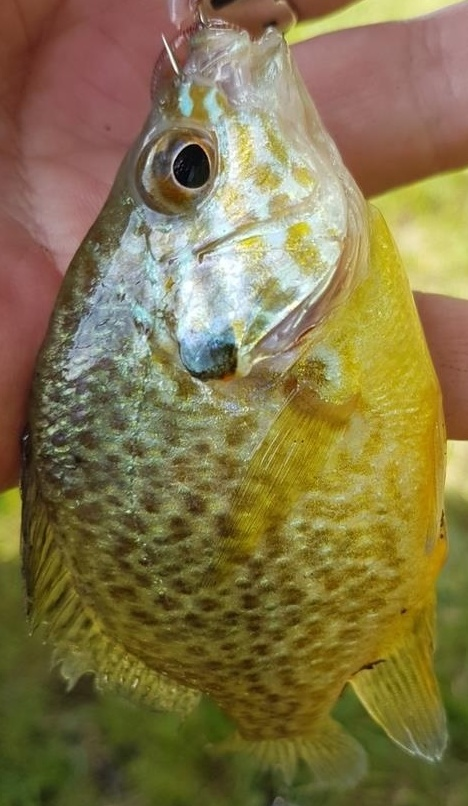Lepomis gibbosus: (20, 20, 448, 786)
